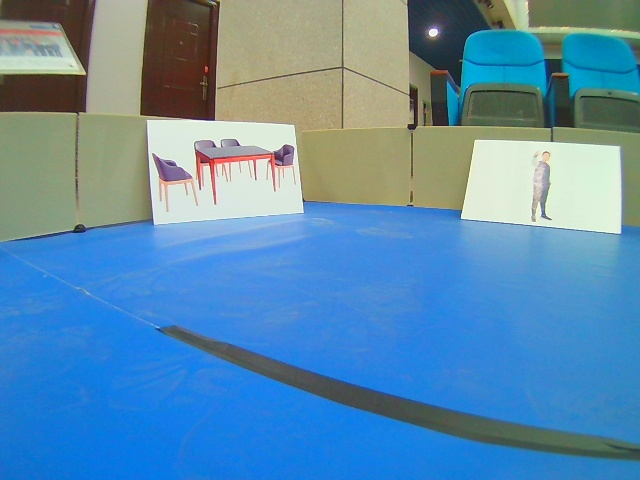person: (461, 139, 623, 234)
table: (146, 119, 305, 227)
